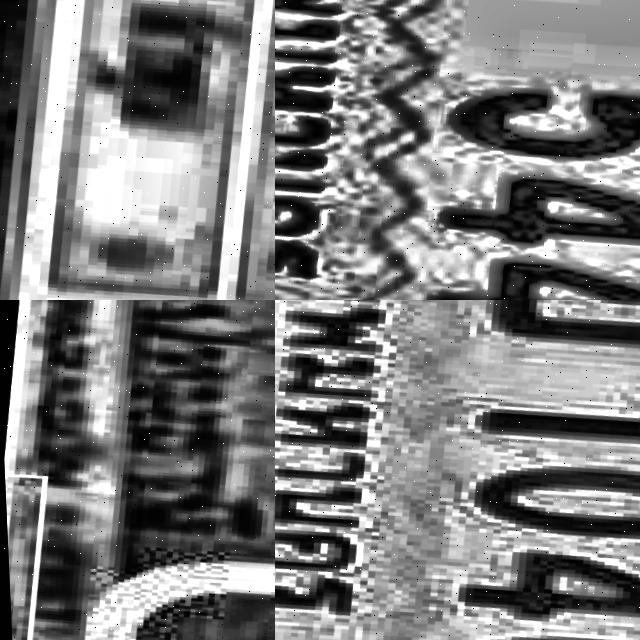license-plate: (275, 300, 640, 640), (275, 0, 640, 300), (0, 300, 275, 640), (0, 0, 275, 300)
